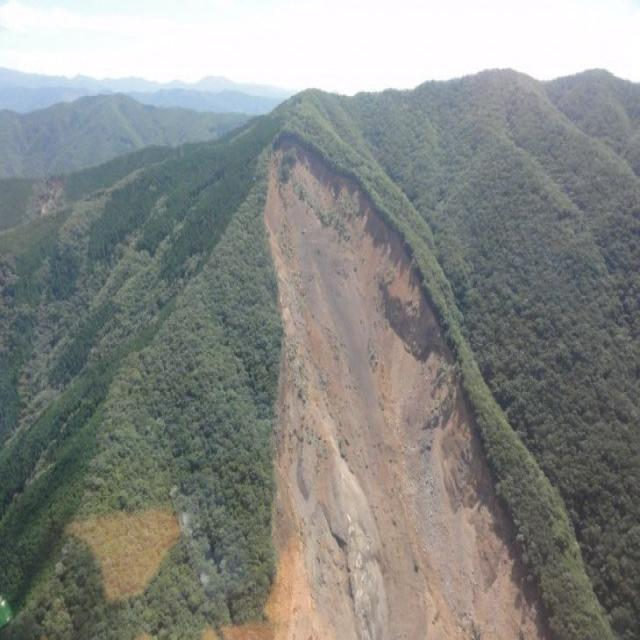Debris-flow: (265, 142, 544, 638)
